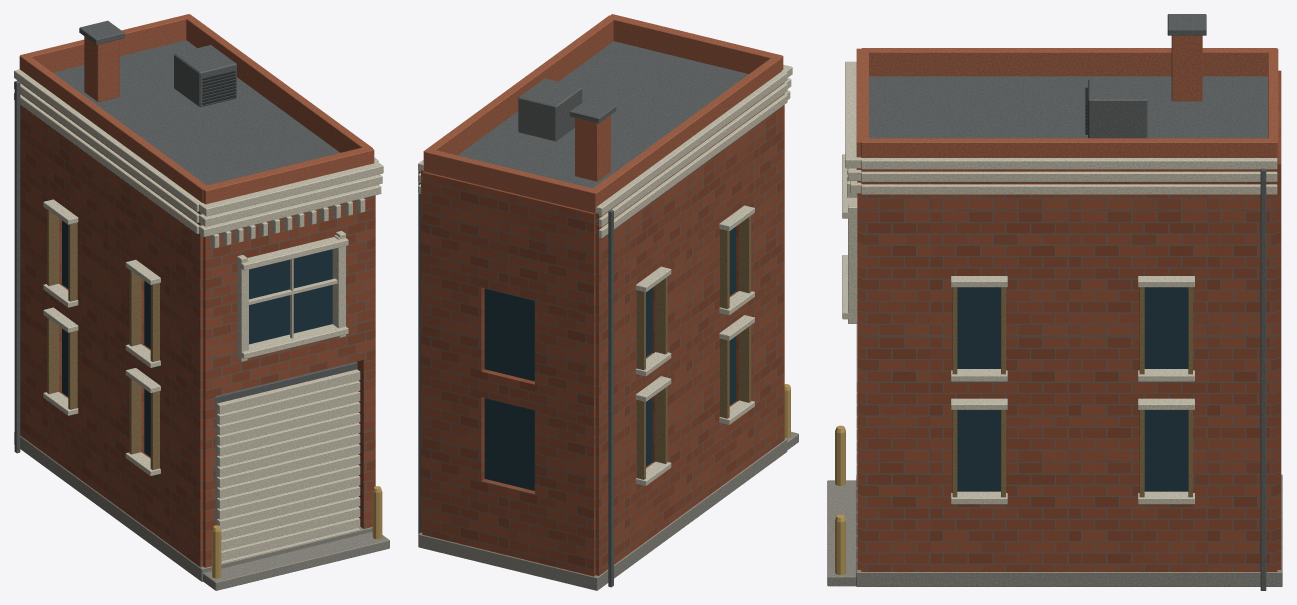
Rendered from WHSE15_lod1.glb.
3 views of the same model, side by side, from view 1: azimuth 30°, elevation 25°; view 2: azimuth 150°, elevation 25°; view 3: azimuth 270°, elevation 25° (orthographic). The views are drawn at different scales.
Parts seen in each view (by area): view 1: WHSE15_LOD1; view 2: WHSE15_LOD1; view 3: WHSE15_LOD1.
Part boxes in pixels (left/top/right/bottom): WHSE15_LOD1: left=14, top=14, right=389, bottom=590; WHSE15_LOD1: left=418, top=14, right=798, bottom=590; WHSE15_LOD1: left=827, top=14, right=1282, bottom=590.
Bounding box in the file's own units: 3.71 × 7.85 × 6.57.
10 materials, 7 textured.
